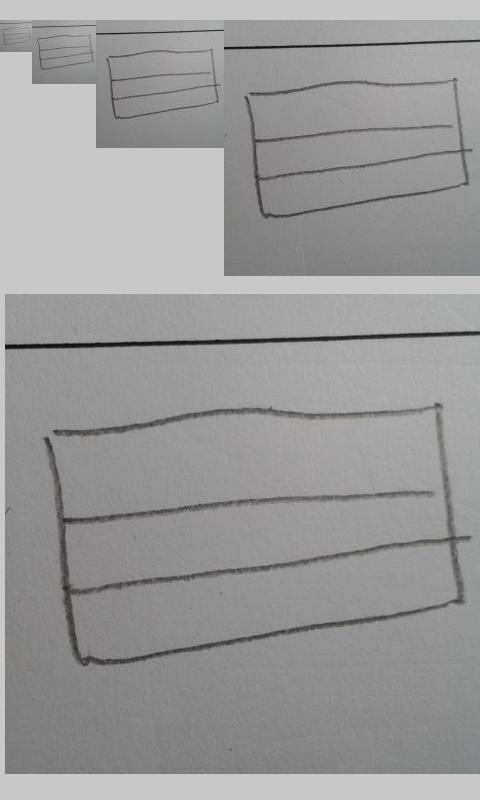list_view: (43, 398, 469, 678), (241, 79, 473, 224), (106, 48, 220, 121), (37, 34, 94, 70), (3, 26, 31, 46)
